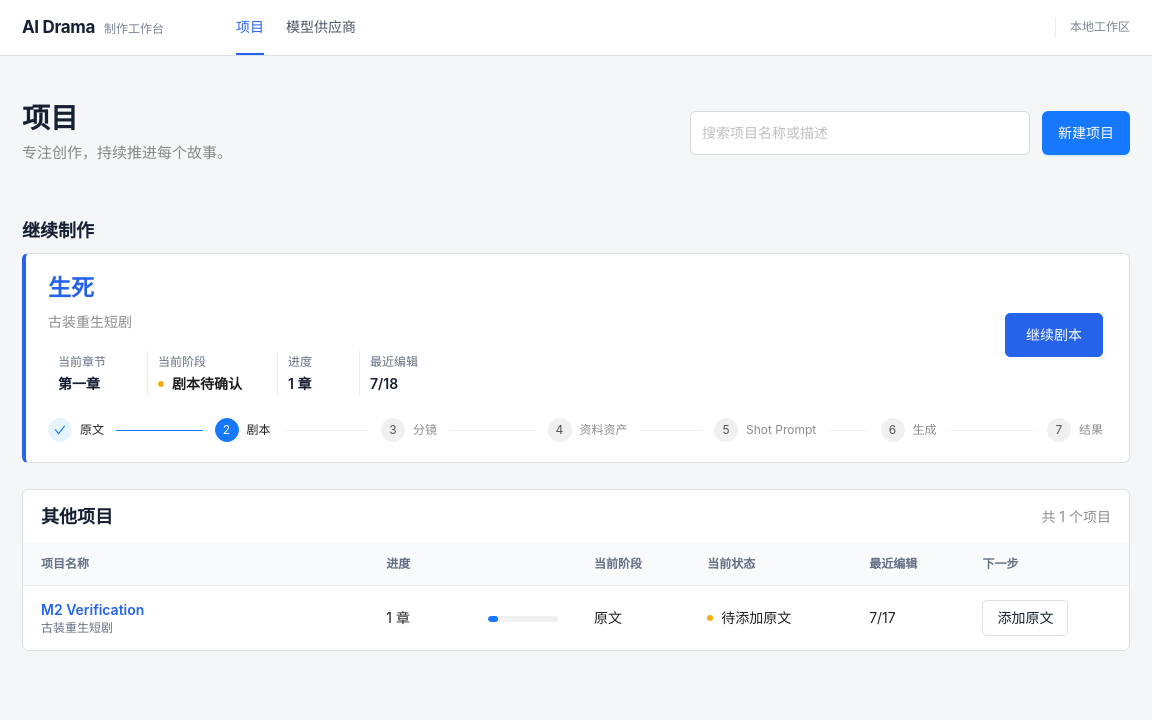
Scenario: project pages › focuses the newest project and filters the remaining production queue
Expected: the element "继续制作" shows "生死", [48,274,985,304]
Expected: the element "继续制作" shows "剧本待确认", [172,375,242,392]
Type "不存在" into the search field labelled "搜索项目". click: (860, 133)
box: [690,111,1030,155]
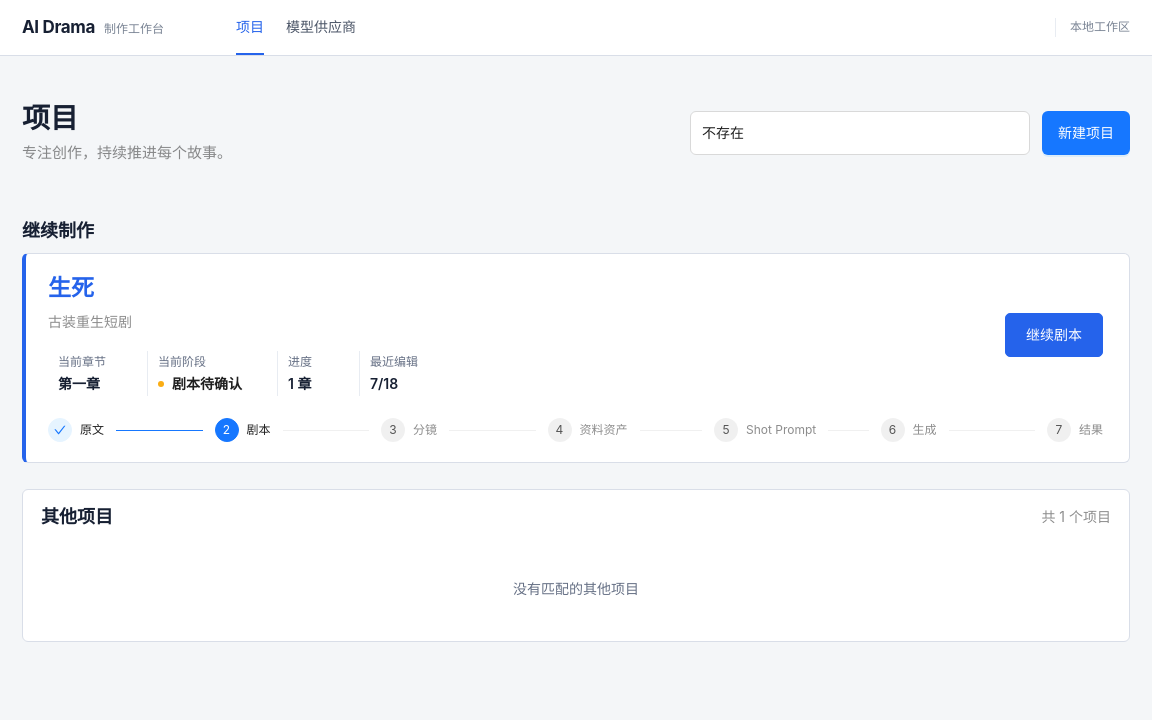
Expected: the link "M2 Verification" is gone
Expected: the text "没有匹配的其他项目" is shown, [513,580,639,597]
